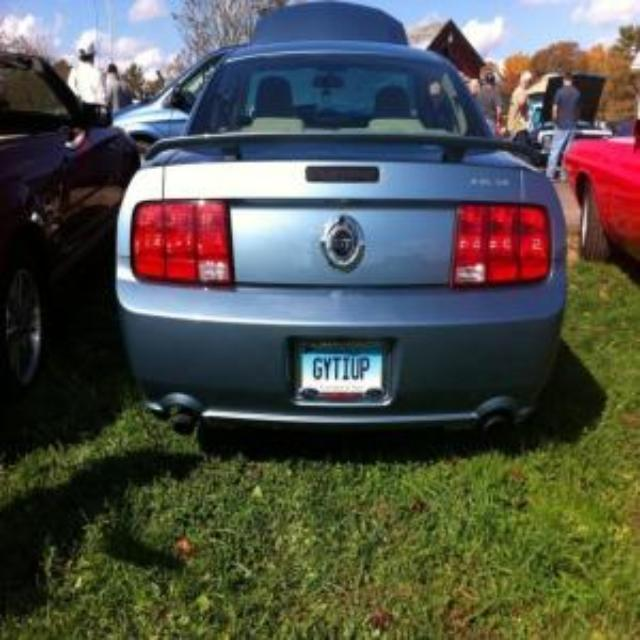License Plate: (298, 342, 386, 399)
